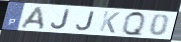0: (148, 13, 171, 38)
A: (19, 6, 46, 31)
J: (50, 8, 72, 30), (75, 10, 97, 32)
K: (98, 11, 122, 35)
Q: (121, 10, 147, 38)
